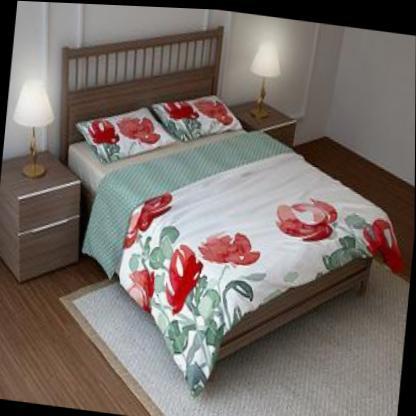Bed: (65, 24, 403, 395)
Nightstand: (0, 151, 81, 283)
